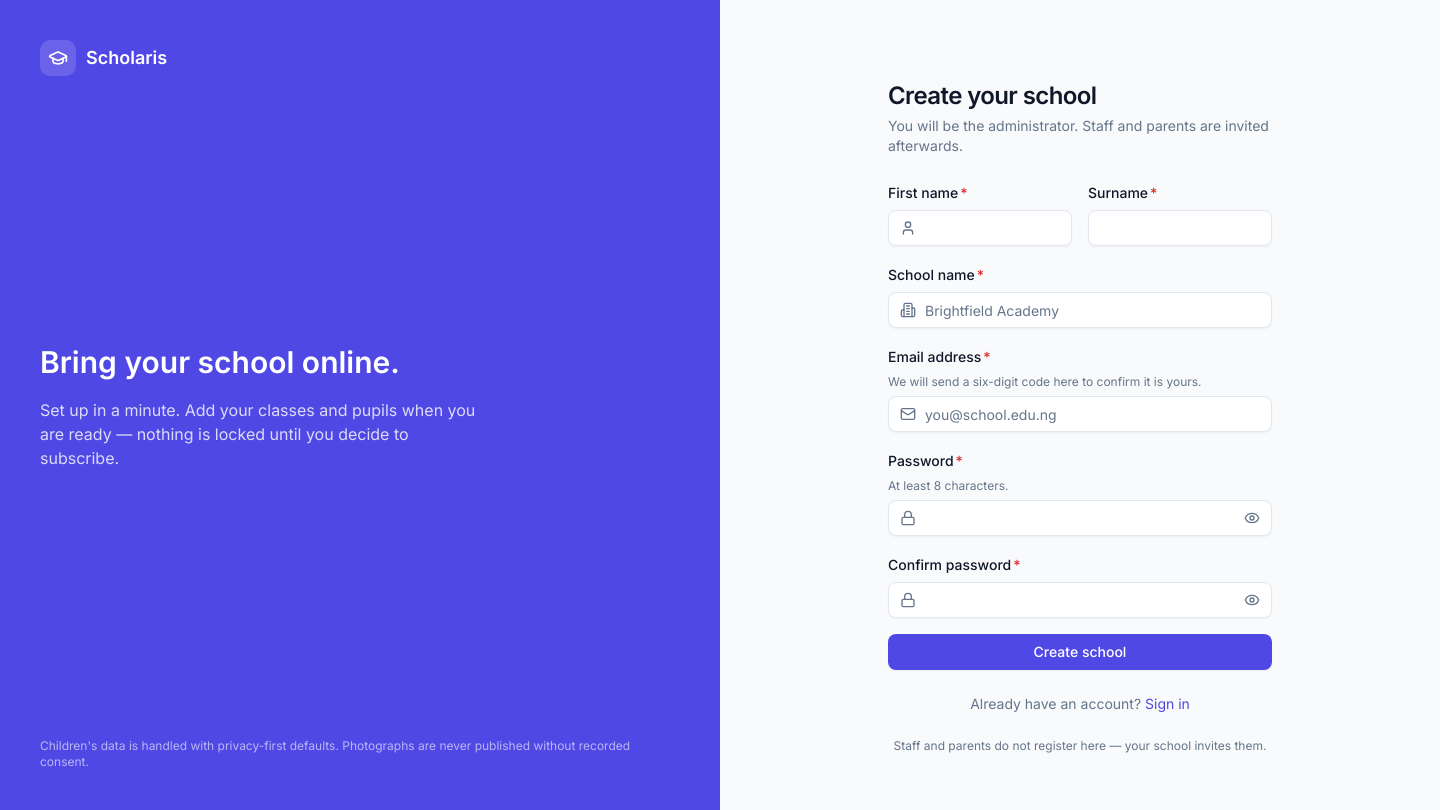
Scenario: SignUpPage › does not submit when the passwords differ
Type "Ngozi" into the field labelled "First name*".
click(980, 228); type("Ngozi")  # box [888,210,1072,246]
Type "Adeleke" into the field labelled "Surname*".
click(1180, 228); type("Adeleke")  # box [1088,210,1272,246]
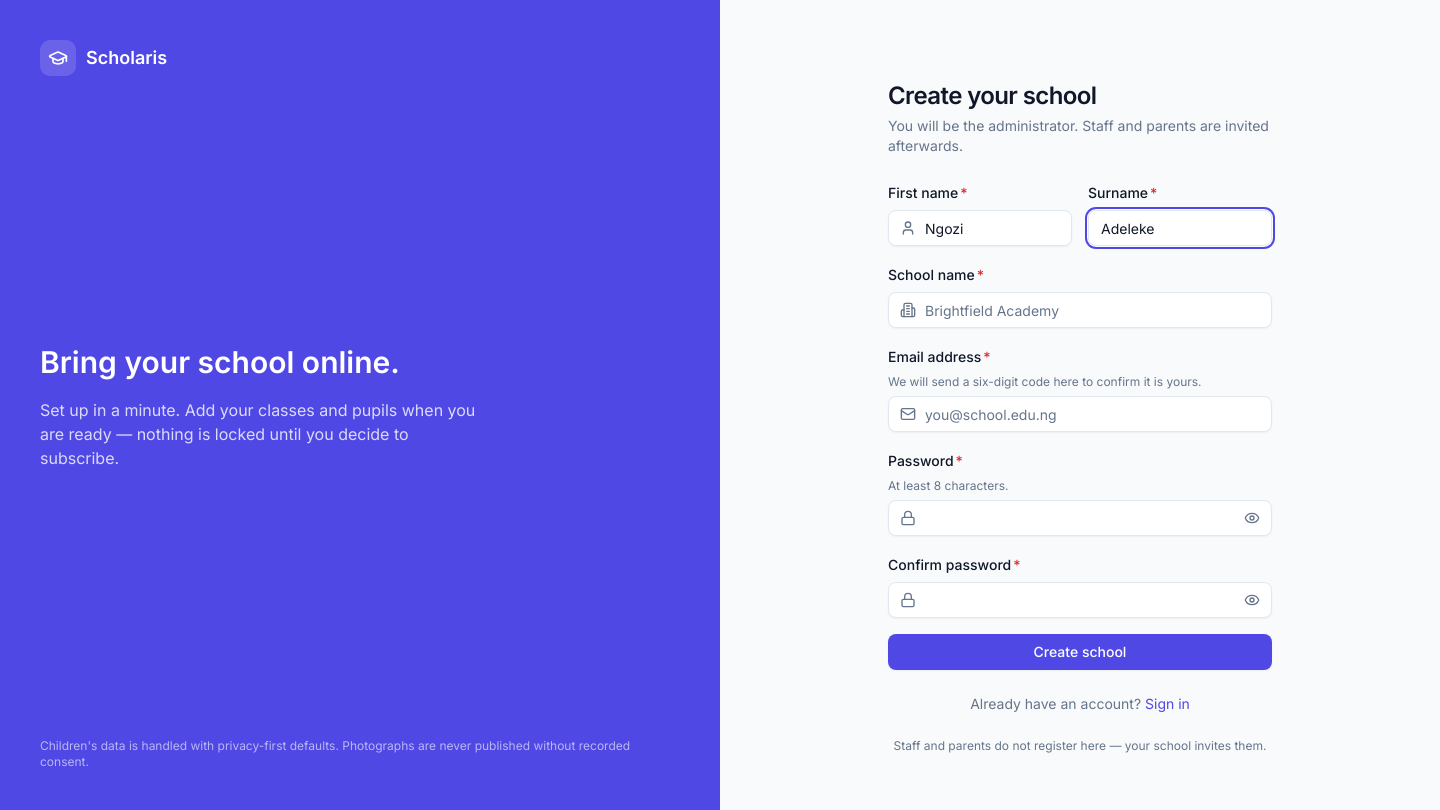
Type "Harmony International College" into the field labelled "School name*".
click(1080, 310); type("Harmony International College")  # box [888,292,1272,328]
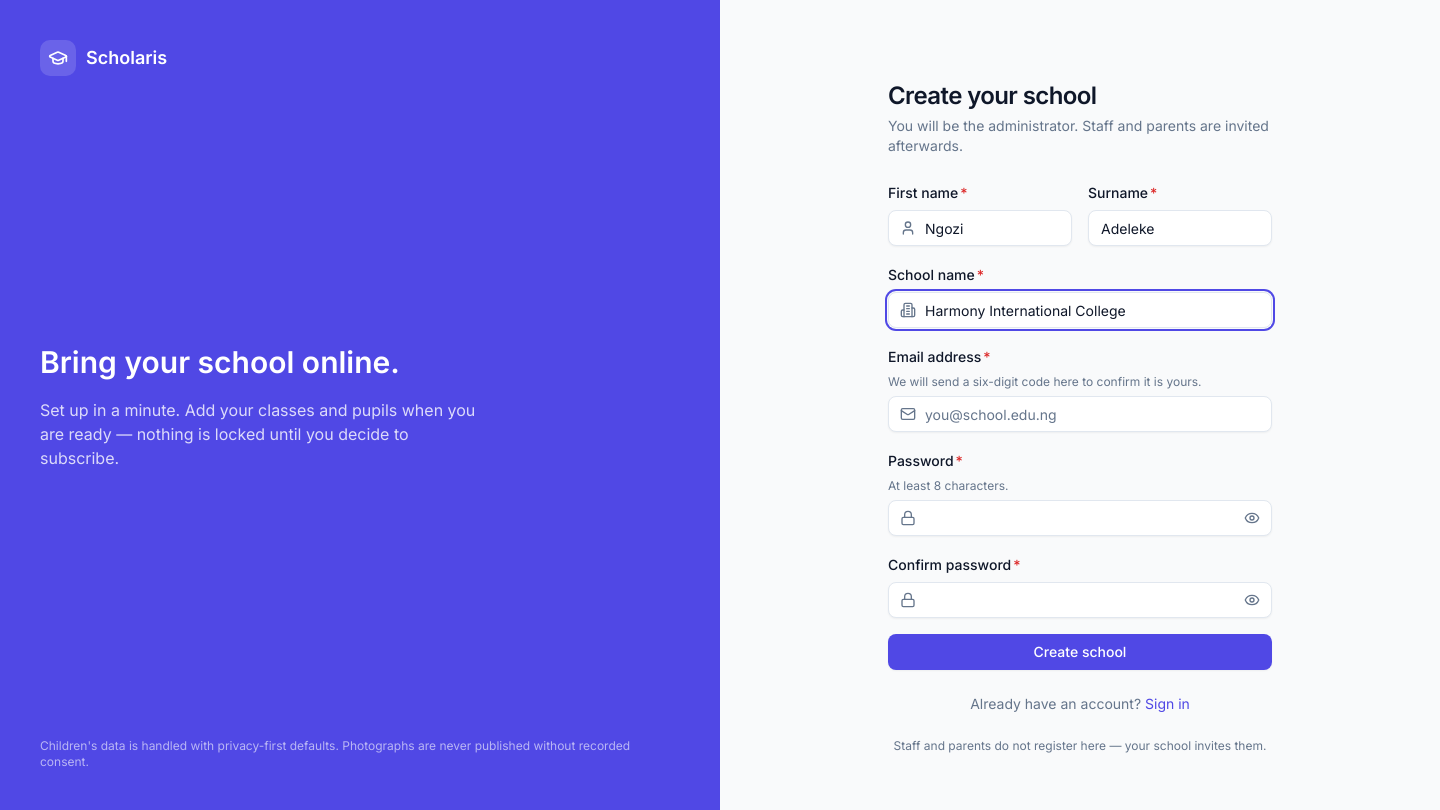
Type "ngozi@harmony.edu.ng" into the field labelled "Email address*".
click(1080, 414); type("ngozi@harmony.edu.ng")  # box [888,396,1272,432]
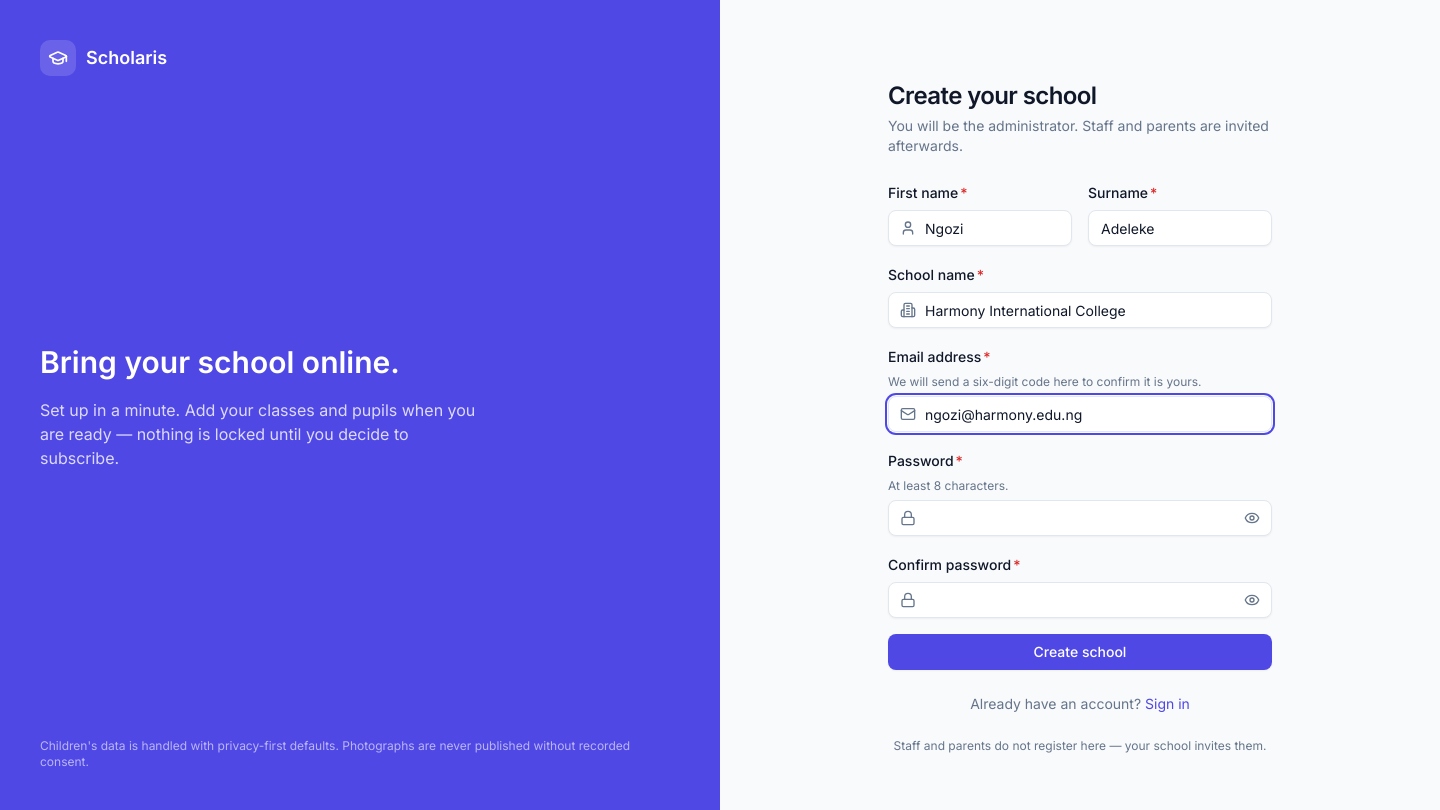
Type "correct-horse-battery" into the password field labelled "Password*".
click(1080, 518); type("correct-horse-battery")  # box [888,500,1272,536]
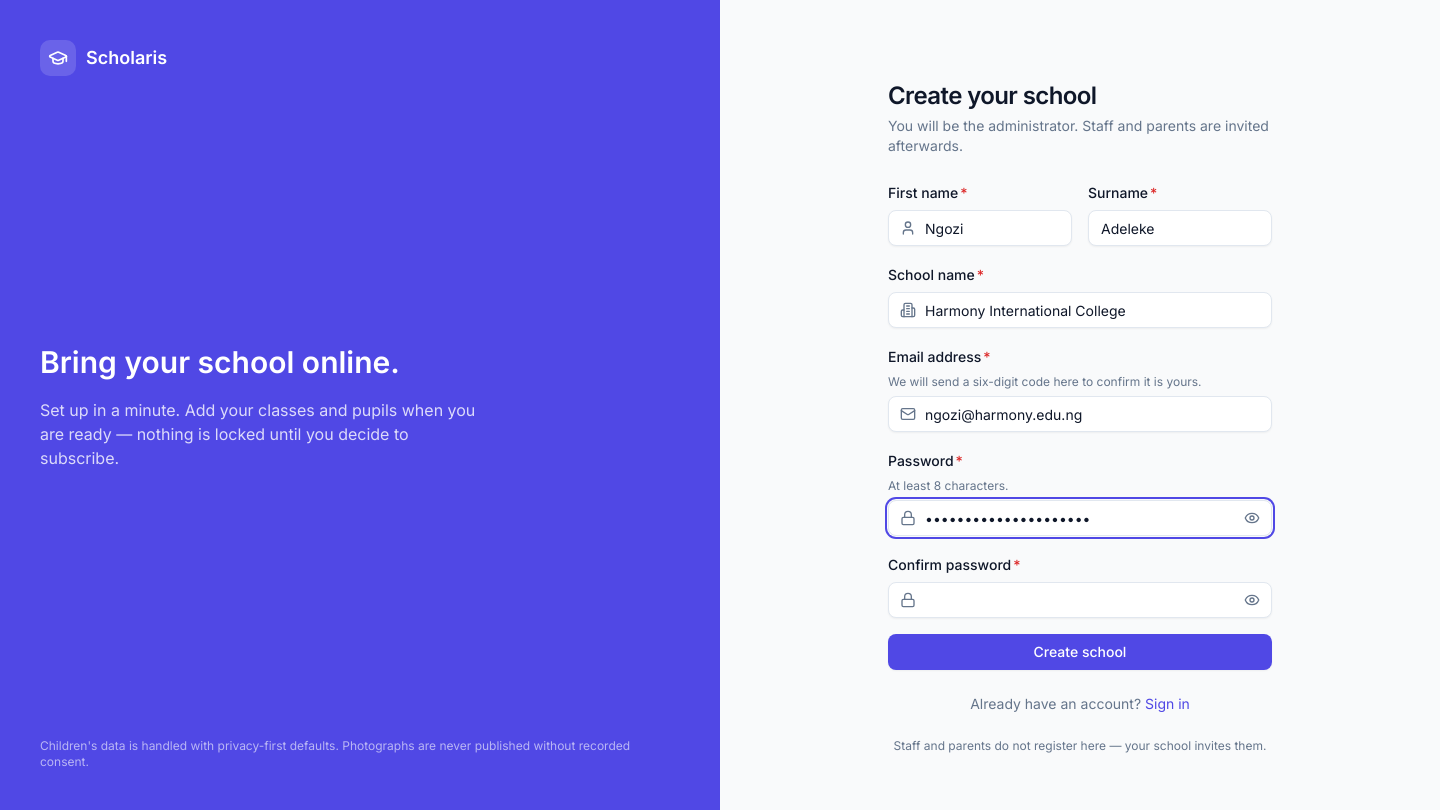
Type "something-else-entirely" into the password field labelled "Confirm password*".
click(1080, 600); type("something-else-entirely")  # box [888,582,1272,618]
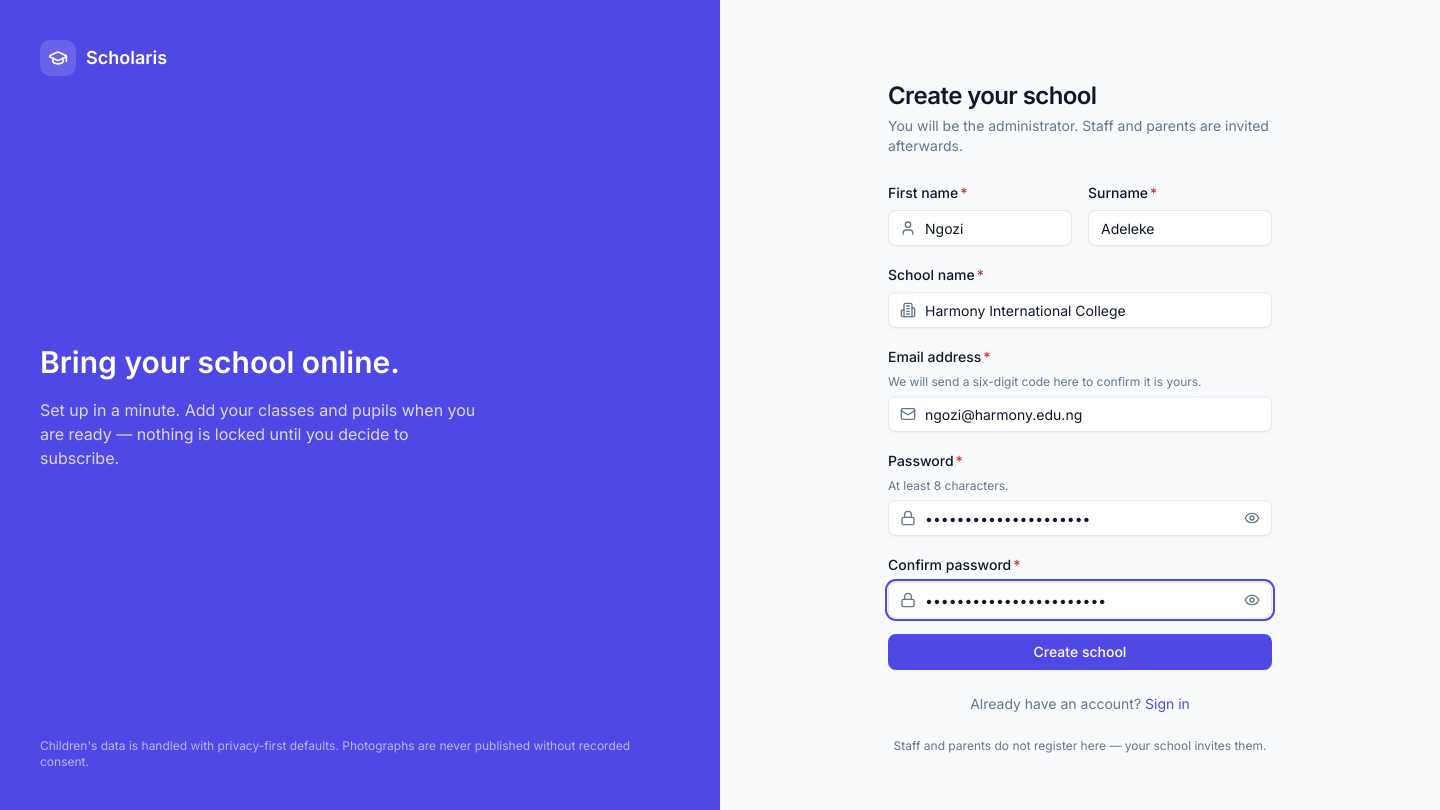
Click the button "Create school".
click(1080, 652)  # box [888,634,1272,670]
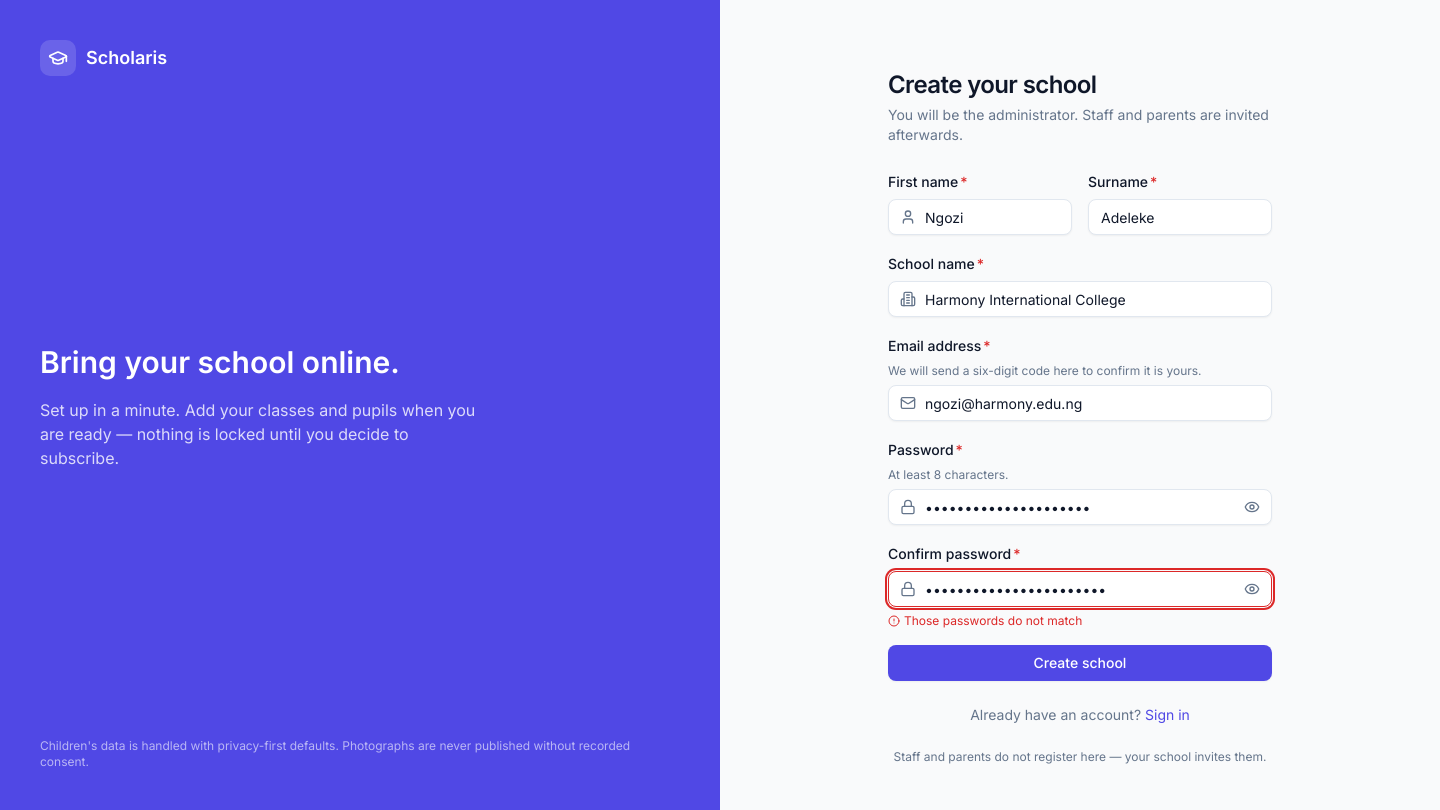
Now the text "Those passwords do not match" is shown, box [888,613,1082,628]
